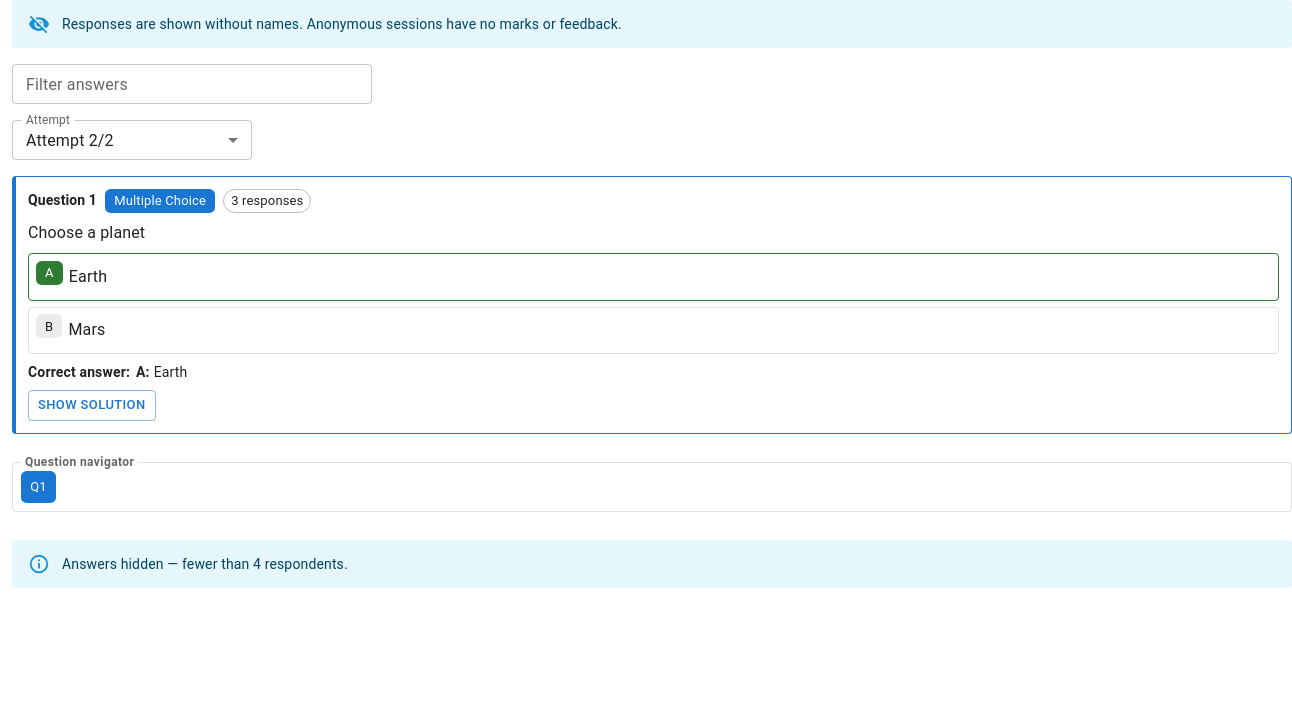
Test case: Anonymous response question review › shows the actual withheld count and permits reviewing an eligible attempt for 0
The width and height of the screenshot is (1292, 720).
Check: the text "3 responses" is shown, box left=231, top=193, right=304, bottom=208
Check: the text "Answers hidden — fewer than 4 respondents." is shown, box left=62, top=556, right=348, bottom=572
Press the mouse on the dropdown labelled "Attempt": (70, 140) left=26, top=130, right=114, bottom=150
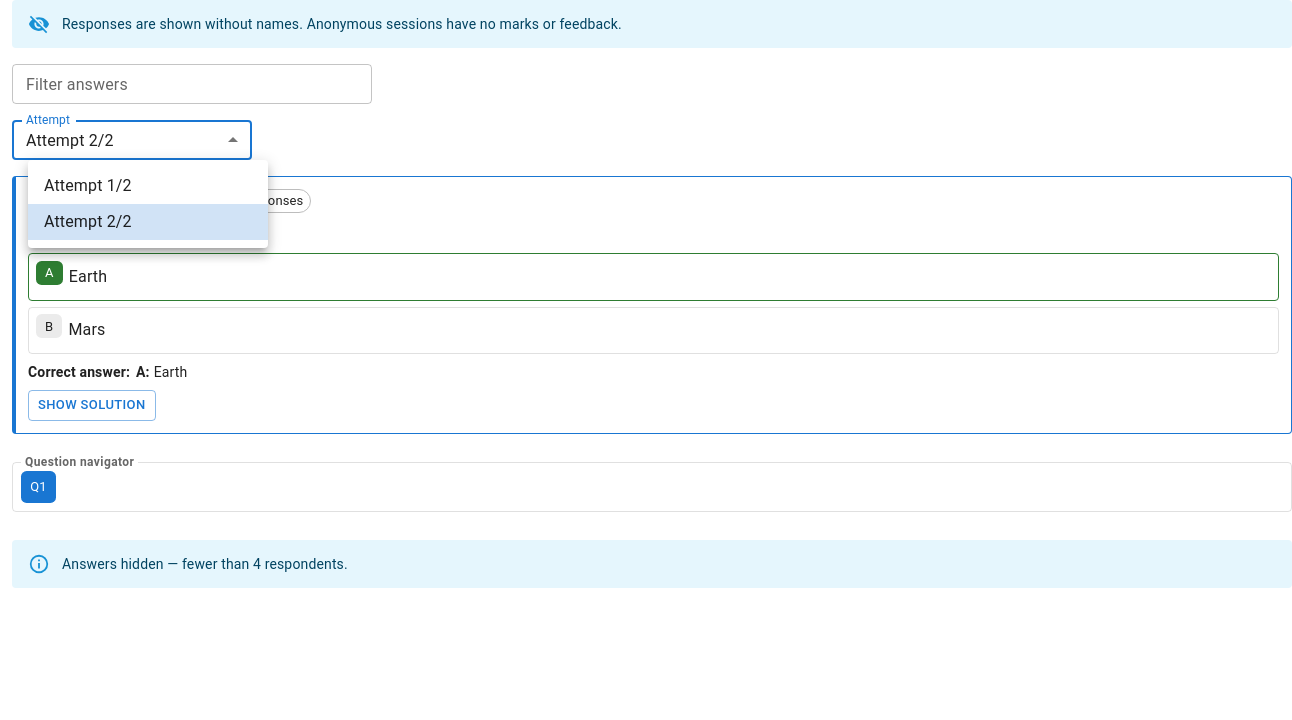
Click the option "Attempt 1/2": (88, 186) left=44, top=176, right=132, bottom=195
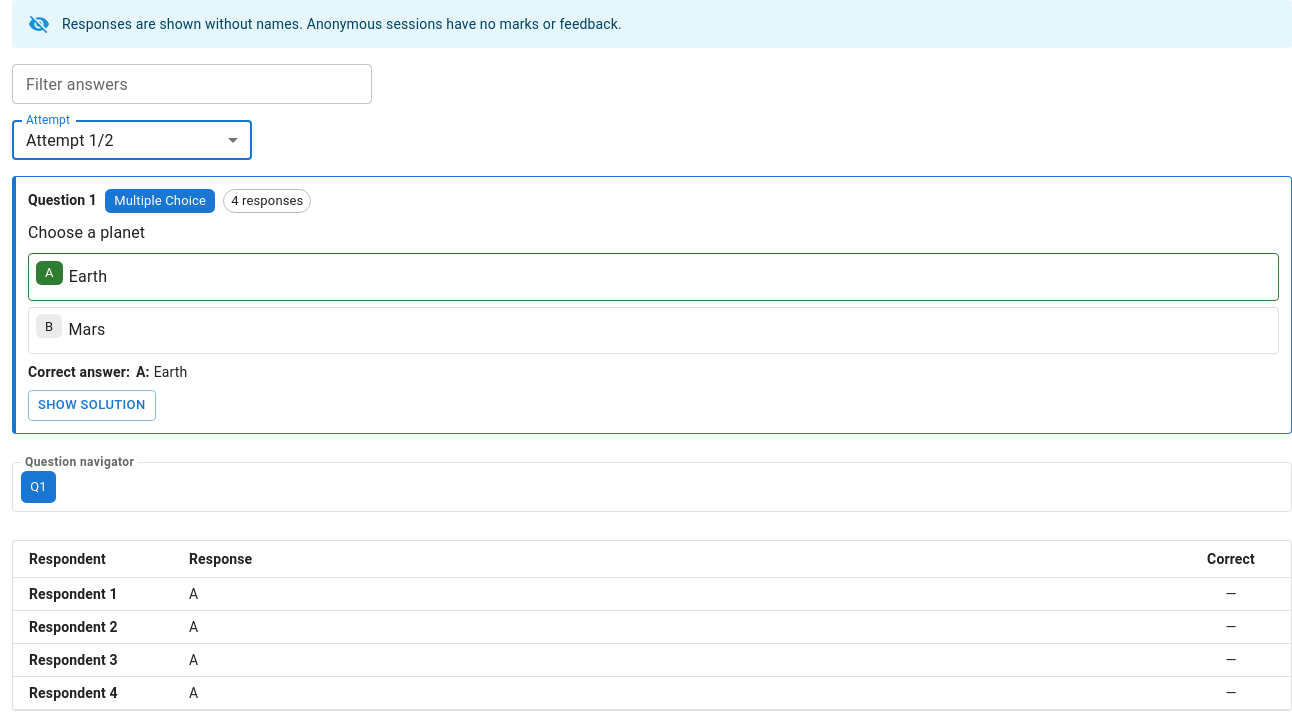
Check: the text "4 responses" is shown, box left=231, top=193, right=304, bottom=208
Check: the number of rows is 5, box left=13, top=541, right=1291, bottom=578; left=13, top=578, right=1291, bottom=610; left=13, top=610, right=1291, bottom=644; left=13, top=644, right=1291, bottom=676; left=13, top=676, right=1291, bottom=710
